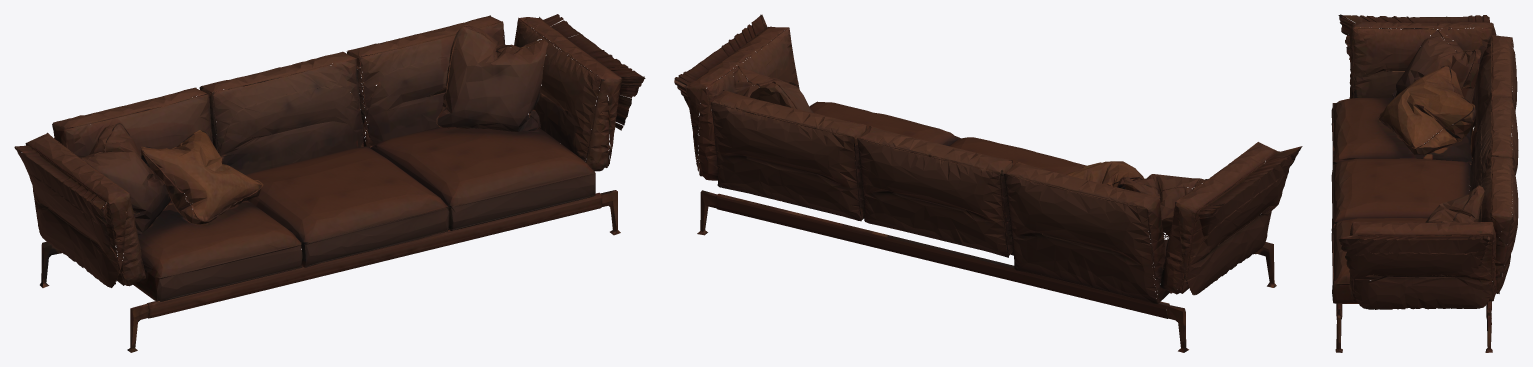
File: edited_mesh.glb
3 views of the same model, side by side, from view 1: azimuth 30°, elevation 25°; view 2: azimuth 150°, elevation 25°; view 3: azimuth 270°, elevation 25° (orthographic). The views are drawn at different scales.
Parts seen in each view (by area): view 1: solid_001_wire; view 2: solid_001_wire; view 3: solid_001_wire.
Part boxes in pixels (left/top/right/bottom): solid_001_wire: left=14, top=14, right=645, bottom=352; solid_001_wire: left=674, top=14, right=1302, bottom=352; solid_001_wire: left=1331, top=14, right=1518, bottom=352.
Size of the model in its own units: 2 by 0.577 by 0.7051.
Materials: 1 (1 with a texture image).
